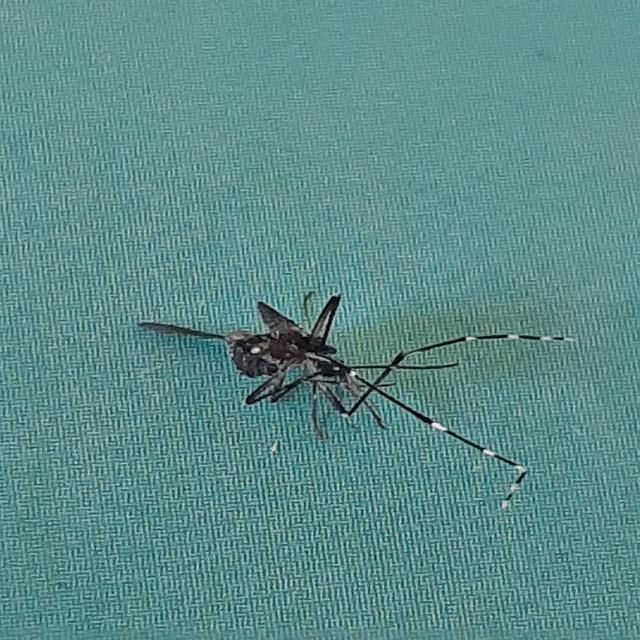albopictus: (130, 274, 568, 502)
